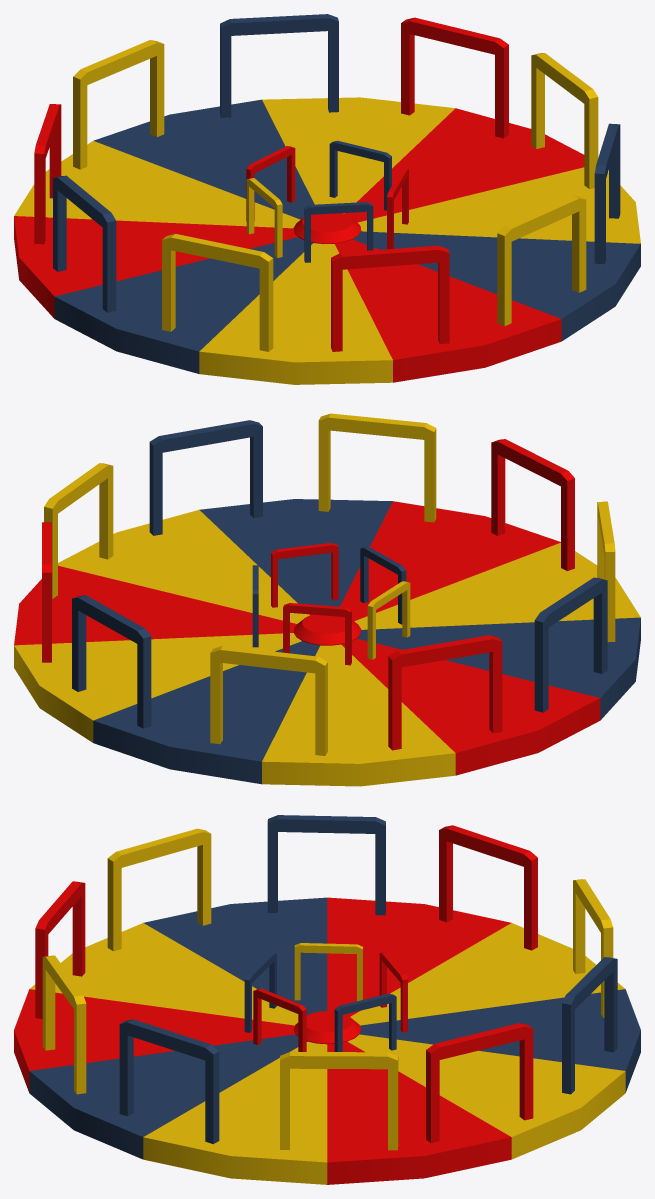
File: Spinner.fbx
3 renders of one model, top to bottom at view 1: azimuth 30°, elevation 25°; view 2: azimuth 150°, elevation 25°; view 3: azimuth 270°, elevation 25°, orthographic.
Parts seen in each view (by area): view 1: Spinner; view 2: Spinner; view 3: Spinner.
Boxes of the visible parts, bbox=[...] form: Spinner: bbox=[14, 14, 640, 384]; Spinner: bbox=[14, 413, 640, 786]; Spinner: bbox=[14, 815, 640, 1184].
Bounding box in the file's own units: 9.57 × 2.55 × 9.57.
